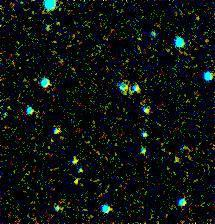star: (61, 166, 91, 196)
